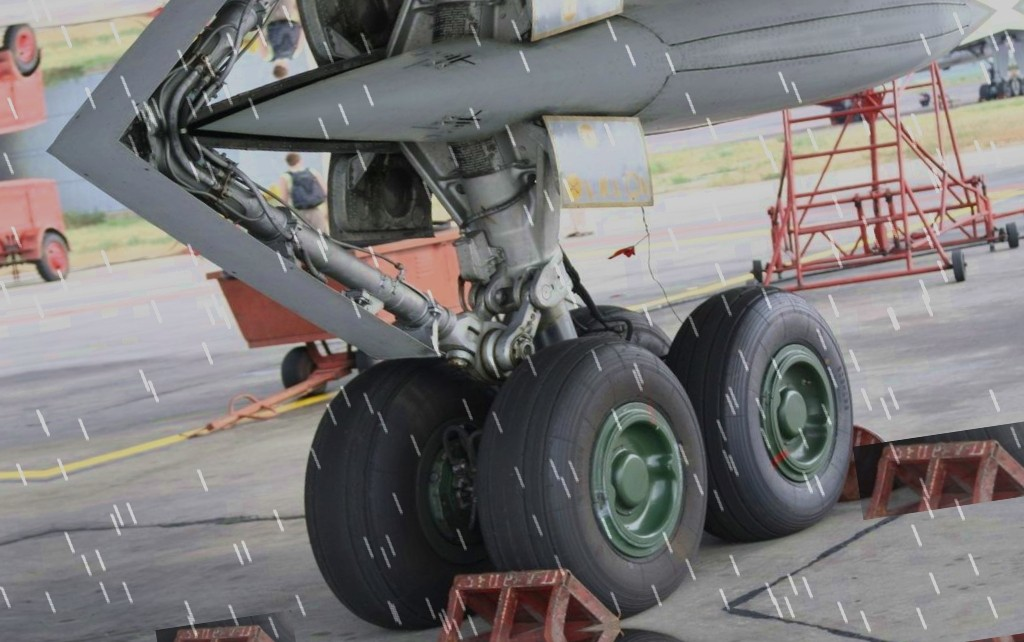chock: (423, 548, 623, 642), (853, 419, 1024, 520), (828, 416, 928, 516), (155, 610, 299, 642)
wheel: (453, 321, 733, 635), (283, 347, 525, 640), (667, 272, 873, 548), (564, 295, 673, 366)
